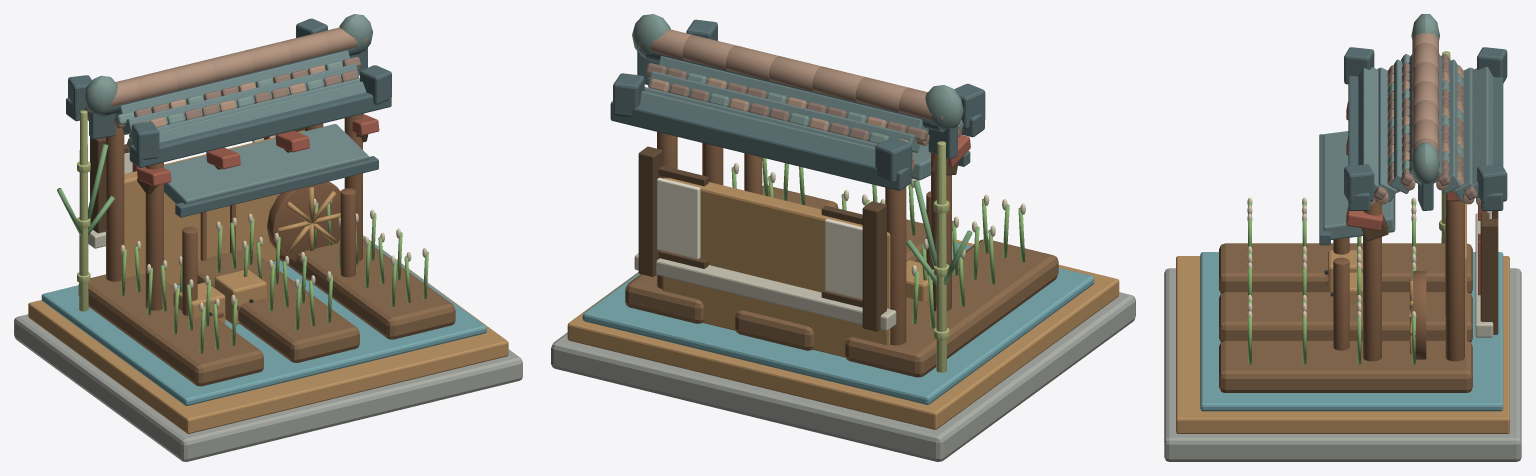
The model's file is building_farm_open.glb.
The picture shows the model from 3 angles, left to right: view 1: azimuth 30°, elevation 25°; view 2: azimuth 150°, elevation 25°; view 3: azimuth 270°, elevation 25°; orthographic projection. The views are drawn at different scales.
Parts seen in each view (by area): view 1: V4_wood_light.001, V4_soil, V4_stone.001, V4_roof.001, V4_wood.001, V4_roof_edge.001, V4_water, V4_roof_terracotta_light.001, V4_crop, V4_roof_moss.001, V4_wood_red.001, V4_bamboo.001 (+4 smaller); view 2: V4_wood_light.001, V4_stone.001, V4_soil, V4_water, V4_roof_edge.001, V4_roof.001, V4_roof_terracotta_light.001, V4_wood_dark.001, V4_wood.001, V4_plaster_light.001, V4_stone_light.001, V4_crop (+5 smaller); view 3: V4_soil, V4_wood_light.001, V4_stone.001, V4_roof.001, V4_water, V4_wood.001, V4_roof_edge.001, V4_roof_terracotta_light.001, V4_wood_dark.001, V4_roof_terracotta.001, V4_roof_moss.001, V4_crop (+3 smaller).
Part boxes in pixels (x1,y1,x2,y2): V4_wood_light.001: (28, 130, 508, 433); V4_soil: (78, 238, 455, 386); V4_stone.001: (14, 314, 522, 461); V4_roof.001: (115, 50, 369, 204); V4_wood.001: (106, 114, 362, 318); V4_roof_edge.001: (66, 18, 391, 217); V4_water: (41, 236, 486, 405); V4_roof_terracotta_light.001: (87, 27, 367, 150); V4_crop: (121, 202, 428, 353); V4_roof_moss.001: (84, 14, 372, 146); V4_wood_red.001: (132, 114, 379, 186); V4_bamboo.001: (77, 110, 90, 311); V4_wood_light.001: (567, 178, 1119, 429); V4_stone.001: (551, 292, 1135, 461); V4_soil: (625, 185, 1058, 377); V4_water: (582, 241, 1094, 404); V4_roof_edge.001: (610, 19, 985, 190); V4_roof.001: (640, 56, 930, 180); V4_roof_terracotta_light.001: (639, 29, 962, 170); V4_wood_dark.001: (638, 146, 958, 331); V4_wood.001: (657, 132, 951, 345); V4_plaster_light.001: (657, 177, 862, 299); V4_stone_light.001: (634, 253, 896, 330); V4_crop: (731, 157, 1025, 328); V4_soil: (1219, 243, 1472, 392); V4_wood_light.001: (1176, 203, 1509, 433); V4_stone.001: (1164, 268, 1521, 461); V4_roof.001: (1323, 53, 1493, 239); V4_water: (1200, 252, 1503, 411); V4_wood.001: (1326, 194, 1464, 361); V4_roof_edge.001: (1319, 47, 1507, 245); V4_roof_terracotta_light.001: (1370, 33, 1480, 206); V4_wood_dark.001: (1361, 211, 1498, 334); V4_roof_terracotta.001: (1374, 54, 1477, 199); V4_roof_moss.001: (1377, 14, 1463, 185); V4_crop: (1248, 203, 1415, 364).
Bounding box in the file's own units: 2.78 × 2.23 × 2.42.
